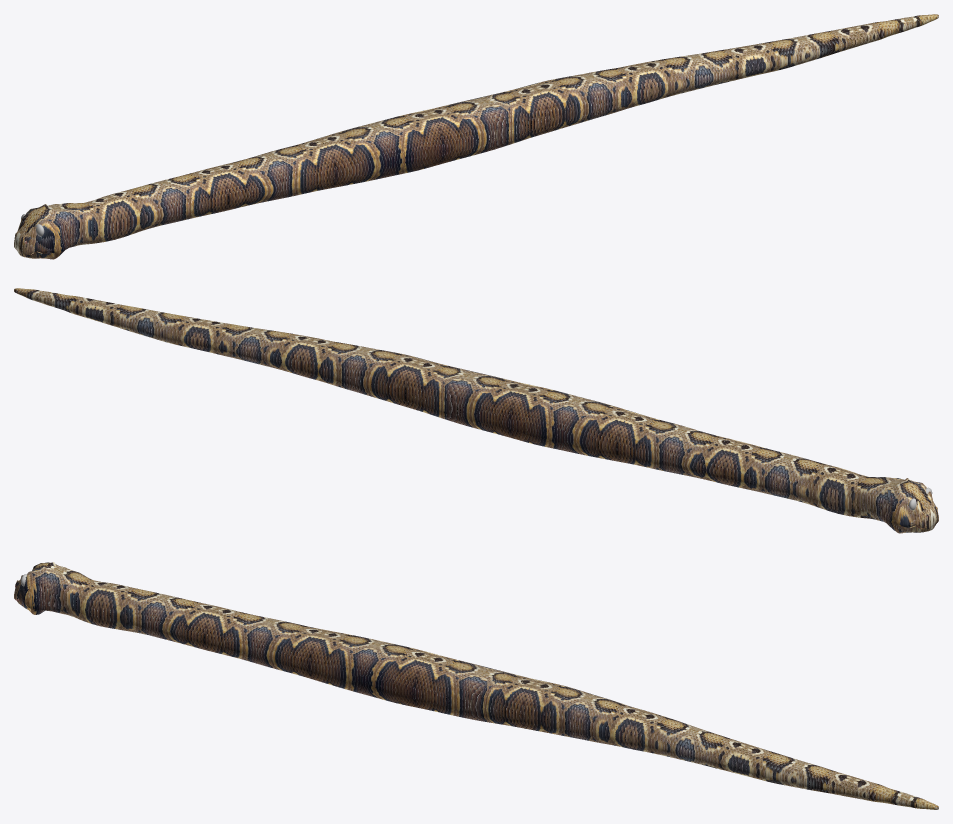
Rendered from boa.fbx.
The picture shows the model from 3 angles, top to bottom: view 1: azimuth 30°, elevation 25°; view 2: azimuth 150°, elevation 25°; view 3: azimuth 330°, elevation 25°; orthographic projection.
Parts seen in each view (by area): view 1: Object_9; view 2: Object_9; view 3: Object_9.
Part boxes in pixels (x1,y1,x2,y2): Object_9: (14,14,938,259); Object_9: (14,288,938,533); Object_9: (14,562,938,809).
Bounding box in the file's own units: 120 × 6.26 × 7.06.
